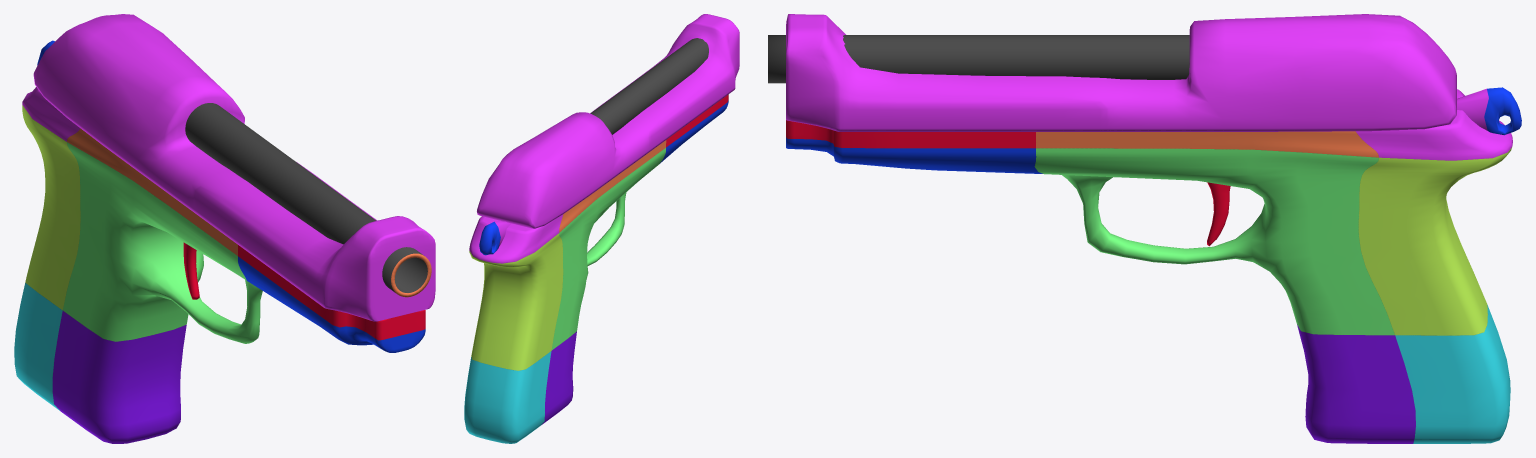
Rendered from Minx_toy_pistol_model_low-poly.glb.
The picture shows the model from 3 angles, left to right: view 1: azimuth 30°, elevation 25°; view 2: azimuth 150°, elevation 25°; view 3: azimuth 270°, elevation 25°; orthographic projection. The views are drawn at different scales.
Parts seen in each view (by area): view 1: body_minx_0, slide_minx_0, barrel_minx_0, trigger_minx_0; view 2: body_minx_0, slide_minx_0, barrel_minx_0, hammer_minx_0; view 3: body_minx_0, slide_minx_0, barrel_minx_0, hammer_minx_0, trigger_minx_0.
Boxes of the visible parts, x1=… form: body_minx_0: x1=14, y1=87, x2=425, y2=443; slide_minx_0: x1=33, y1=14, x2=435, y2=321; barrel_minx_0: x1=185, y1=103, x2=431, y2=297; trigger_minx_0: x1=183, y1=242, x2=199, y2=299; body_minx_0: x1=464, y1=94, x2=728, y2=443; slide_minx_0: x1=477, y1=14, x2=739, y2=228; barrel_minx_0: x1=590, y1=38, x2=708, y2=134; hammer_minx_0: x1=479, y1=221, x2=511, y2=255; body_minx_0: x1=786, y1=89, x2=1512, y2=443; slide_minx_0: x1=786, y1=14, x2=1456, y2=131; barrel_minx_0: x1=768, y1=35, x2=1189, y2=83; hammer_minx_0: x1=1457, y1=87, x2=1521, y2=135; trigger_minx_0: x1=1207, y1=182, x2=1230, y2=246.
Size of the model in its own units: 0.0386 by 0.1414 by 0.2362.
Materials: 1 (1 with a texture image).
